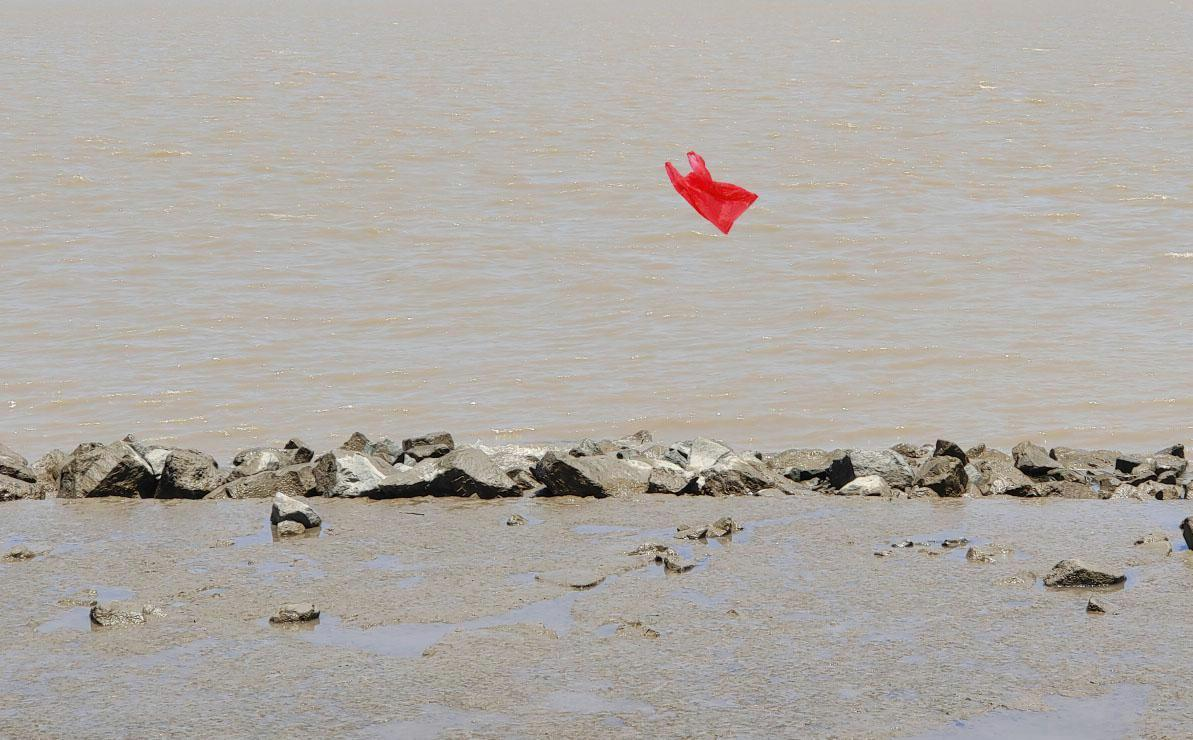Trash: (662, 148, 763, 237)
